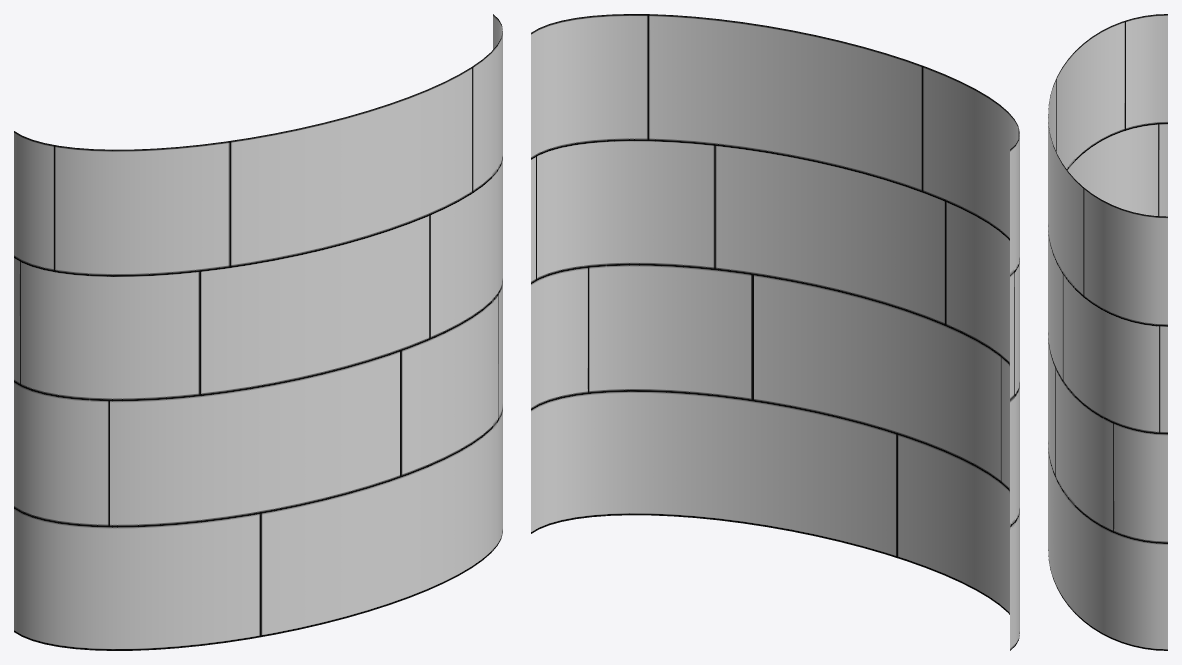
The model's file is Wall350x350xRout87cm.FBX.
3 renders of one model, left to right at view 1: azimuth 30°, elevation 25°; view 2: azimuth 150°, elevation 25°; view 3: azimuth 270°, elevation 25°, orthographic. The views are drawn at different scales.
Parts seen in each view (by area): view 1: Wall350x350xRout87cm; view 2: Wall350x350xRout87cm; view 3: Wall350x350xRout87cm.
Boxes of the visible parts, box(x1,y1,x2,y2) form: Wall350x350xRout87cm: box(14, 14, 502, 650); Wall350x350xRout87cm: box(531, 14, 1019, 650); Wall350x350xRout87cm: box(1048, 14, 1167, 650).
Bounding box in the file's own units: 350 × 350 × 87.5.
